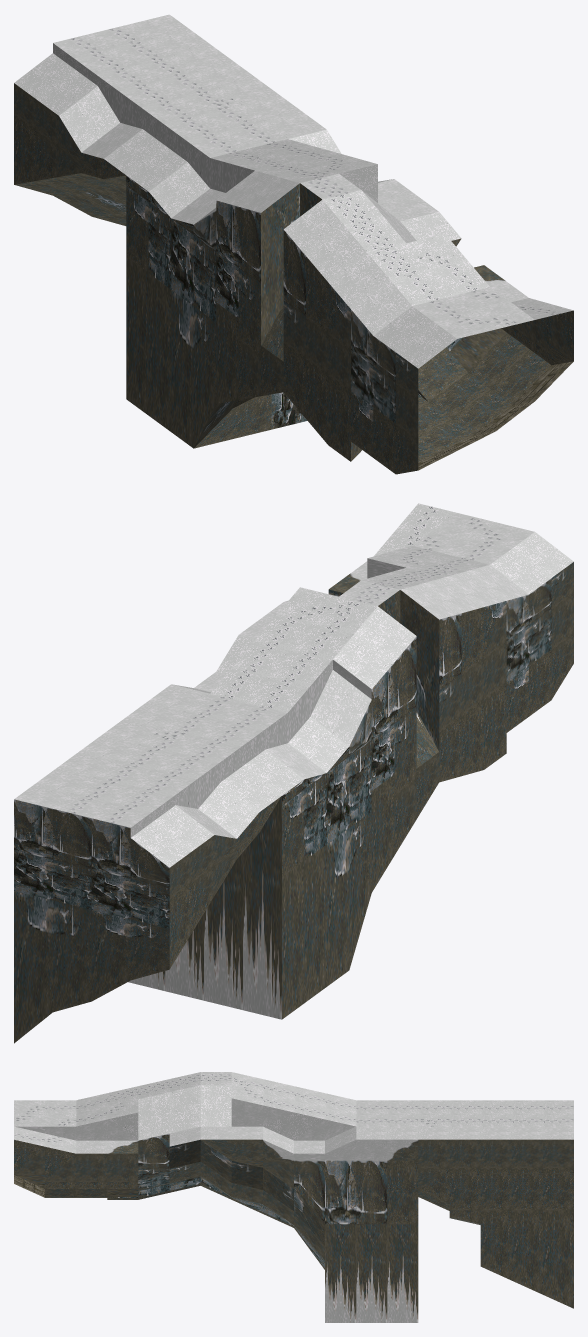
Rendered from room01.obj.
The picture shows the model from 3 angles, top to bottom: view 1: azimuth 30°, elevation 25°; view 2: azimuth 150°, elevation 25°; view 3: azimuth 270°, elevation 25°; orthographic projection. The views are drawn at different scales.
Visible parts, largest first — view 1: 01-Caves; view 2: 01-Caves; view 3: 01-Caves.
Part boxes in pixels (left/top/right/bottom): 01-Caves: left=14, top=14, right=573, bottom=474; 01-Caves: left=14, top=503, right=573, bottom=1043; 01-Caves: left=14, top=1072, right=573, bottom=1322.
Size of the model in its own units: 16 by 30 by 72.
1 material, 1 textured.
